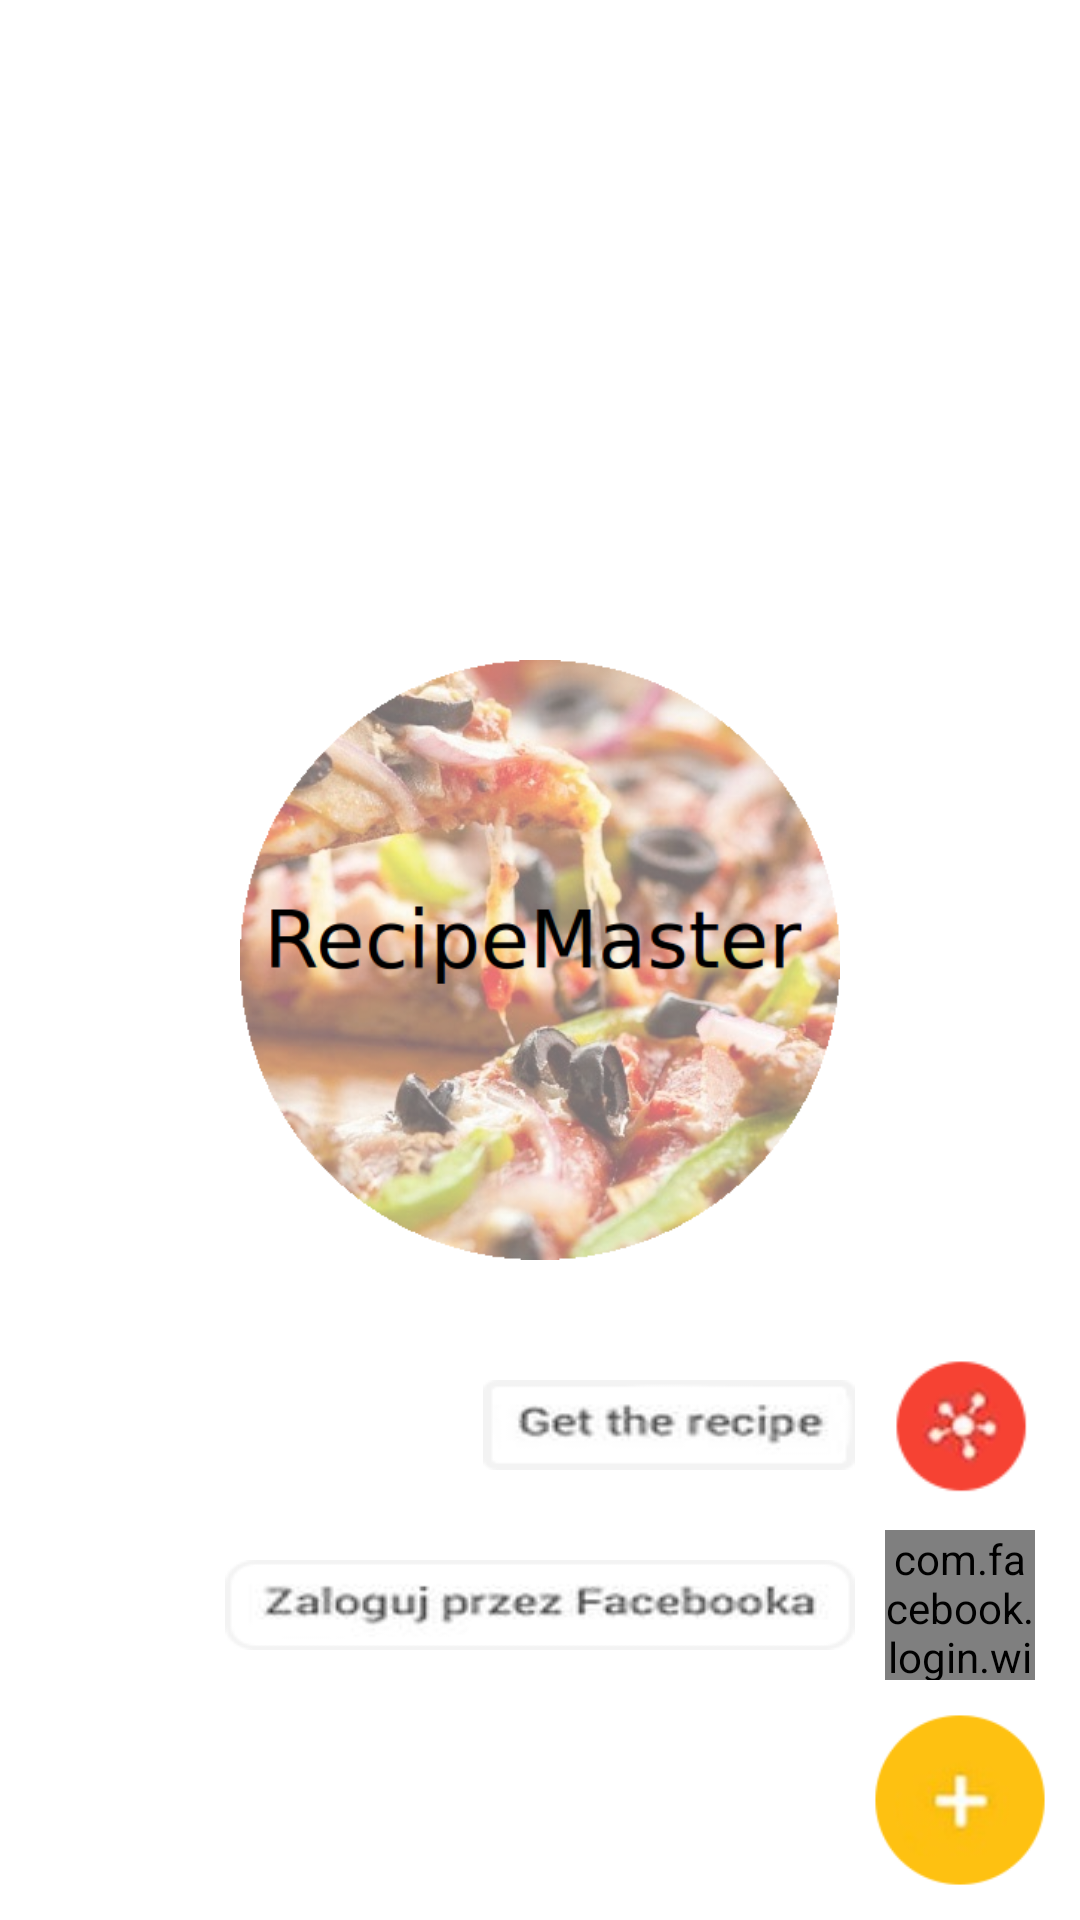

Point at icon controls on the screen. Image size 1080w x 1920h, points as (x,y).
plus: (960,1800)
